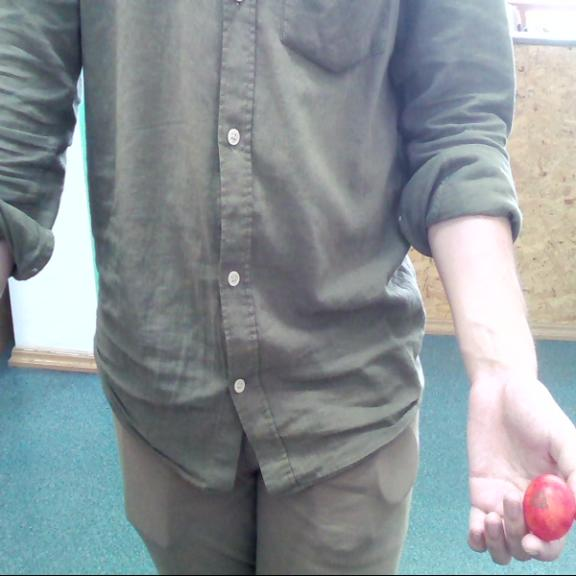ball: (524, 475, 574, 541)
